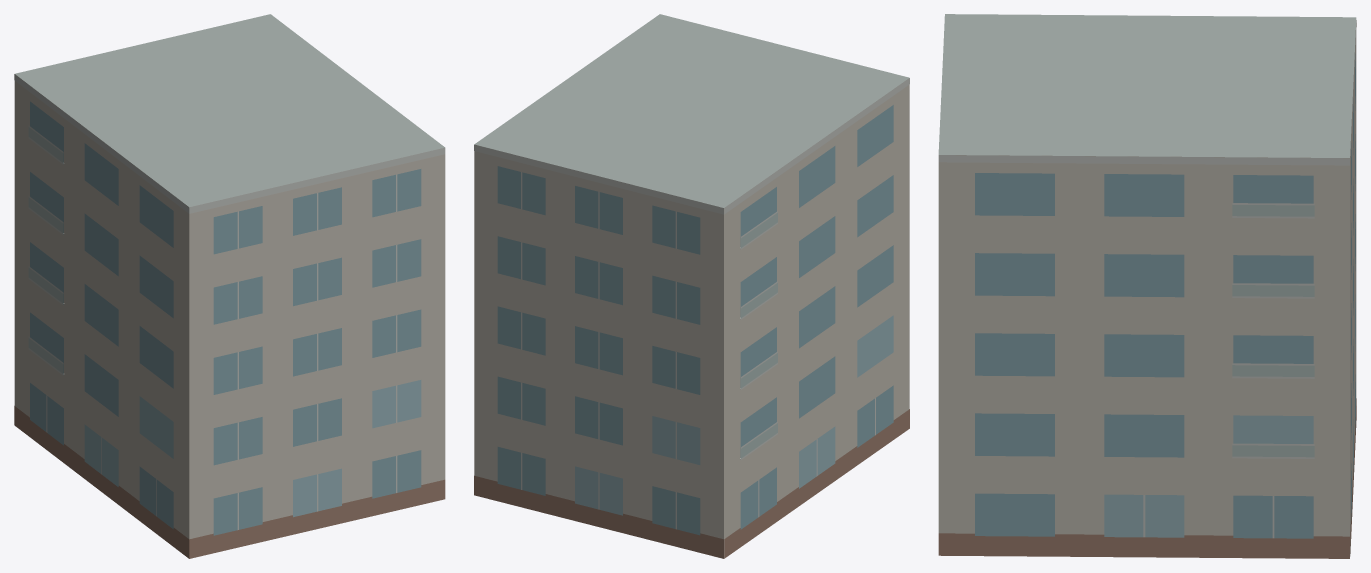
The model's file is survey-upis-32637731.glb.
3 views of the same model, side by side, from view 1: azimuth 30°, elevation 25°; view 2: azimuth 150°, elevation 25°; view 3: azimuth 270°, elevation 25° (orthographic). The views are drawn at different scales.
Parts seen in each view (by area): view 1: survey-upis-32637731.tmp; view 2: survey-upis-32637731.tmp; view 3: survey-upis-32637731.tmp.
Boxes of the visible parts, x1,y1,x2,y2 form: survey-upis-32637731.tmp: (14, 14, 445, 558); survey-upis-32637731.tmp: (474, 14, 909, 558); survey-upis-32637731.tmp: (938, 14, 1356, 558).
Bounding box in the file's own units: 10.05 × 13 × 12.3.
